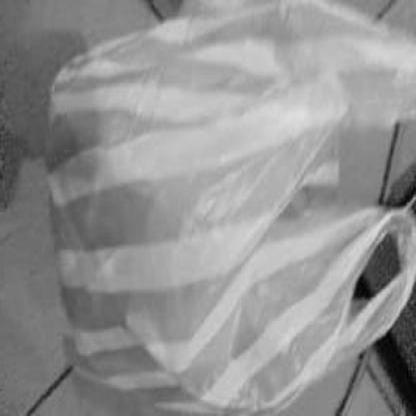objects: (50, 10, 414, 416)
